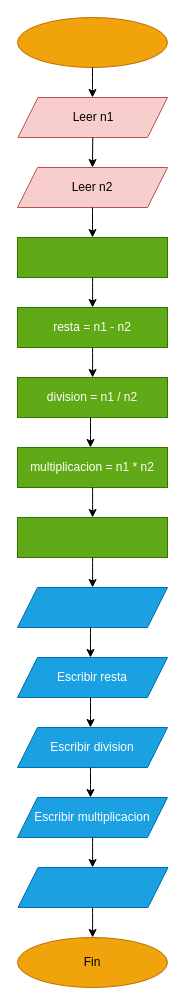
Image size: 186x1005. Some labels were removed from this diagram. The shapes that lost their labels are listed below. From the top down, each one's centre as x and y in pixels, then its label:
At point 92,42: "Inicio: operacionesMatematicas".
At point 92,257: "suma = n1 + n2".
At point 92,537: "modulo = n1 % n2".
At point 92,607: "Escribir suma".
At point 92,887: "Escribir modulo".
